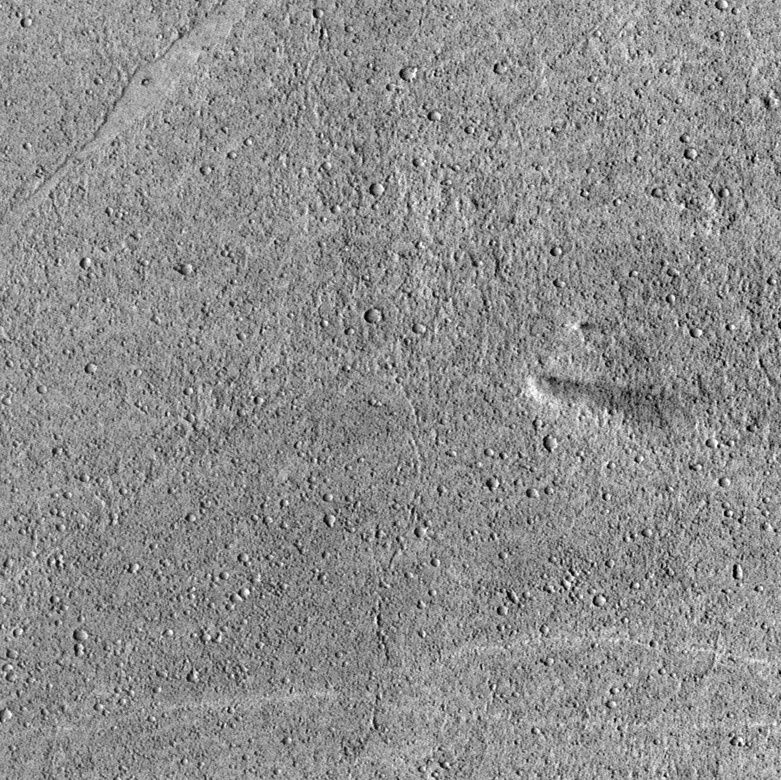dust_devil: (523, 373, 669, 430)
